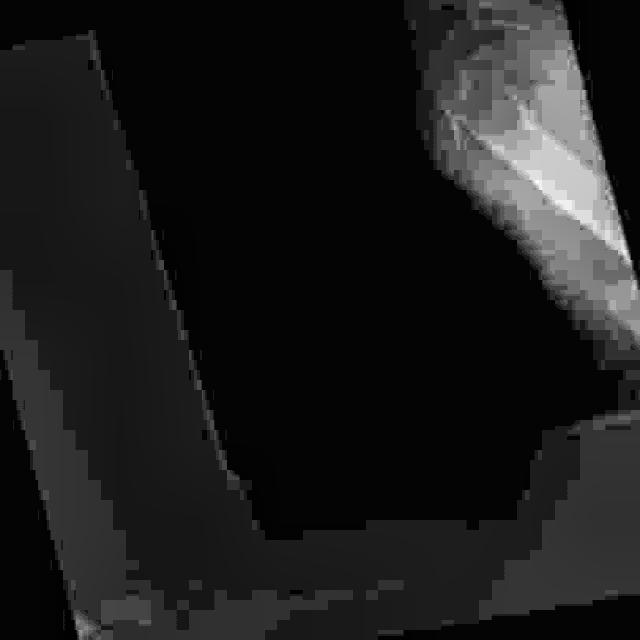shoulder fracture: (404, 77, 519, 172)
